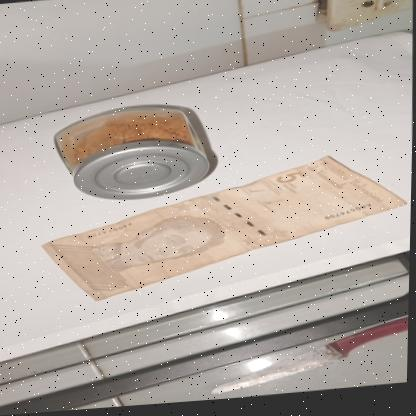five-front-vef: (39, 153, 409, 306)
